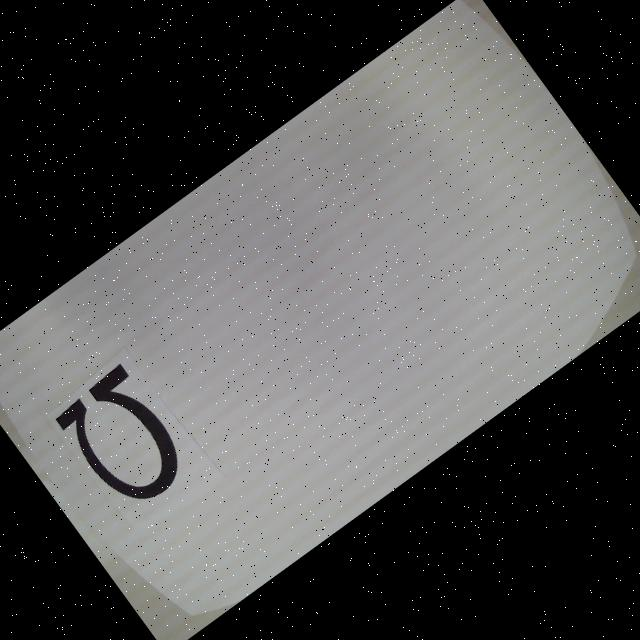OMEGA: (50, 361, 196, 517)
